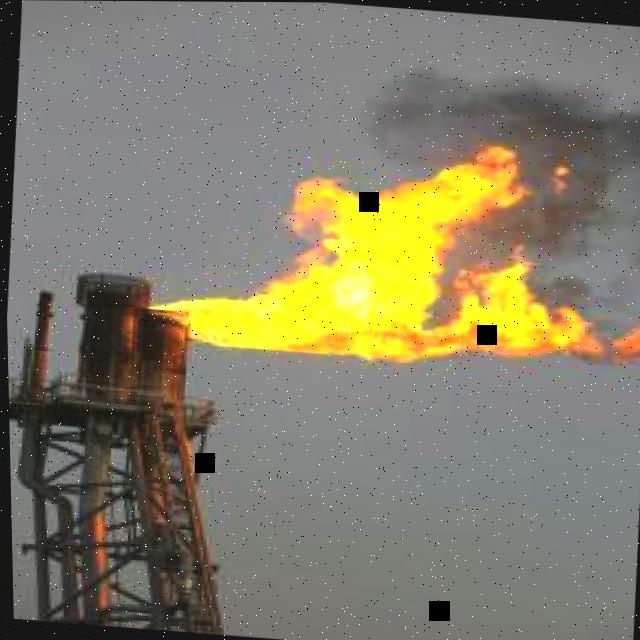fire: (148, 145, 640, 365)
smoke: (362, 66, 640, 320)
